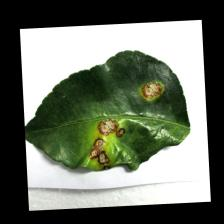canker: (75, 70, 166, 169)
